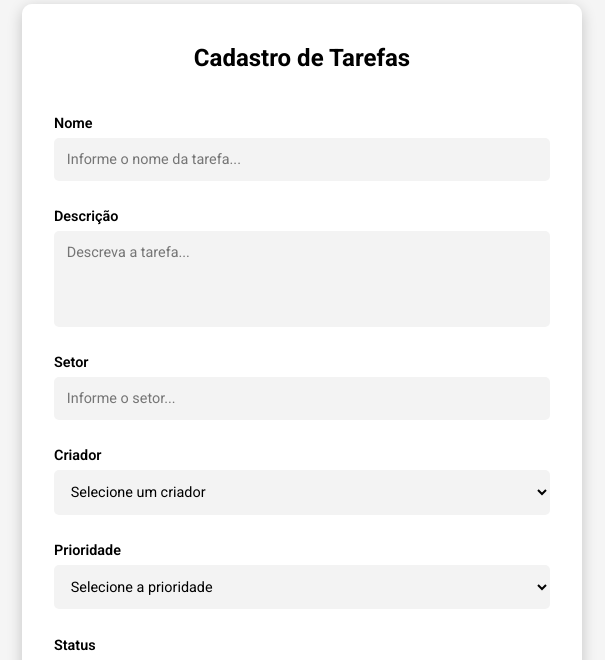
Test: Validações no formulário de cadastro de tarefa › Deve mostrar erro quando nome contém números
This screenshot has width=605, height=660.
Type "Tarefa1" into the field labelled "Nome" at (302, 160), box [54, 138, 550, 181]
(page scrolled)
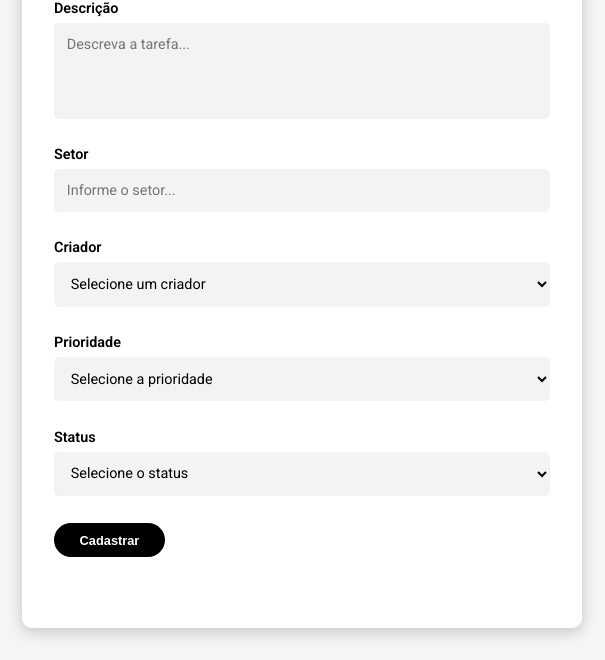
Click the button "Cadastrar" at (109, 540), box [54, 523, 165, 558]
(page scrolled)
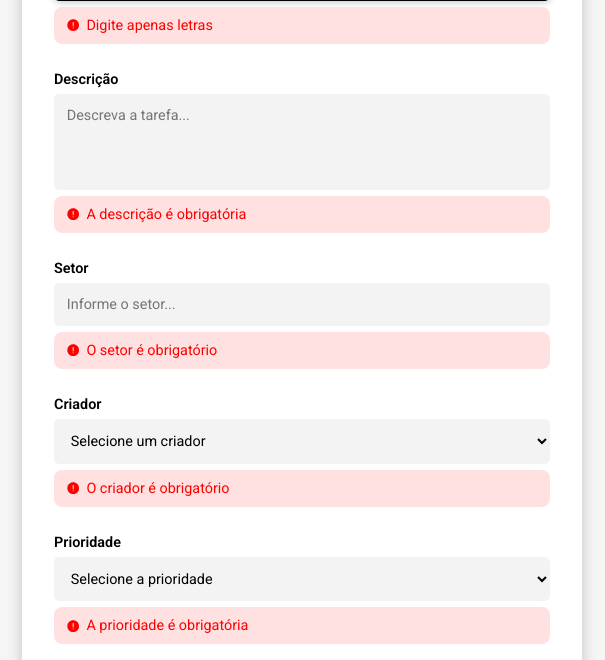
Check: the text "Digite apenas letras" is shown, box [54, 7, 550, 44]
